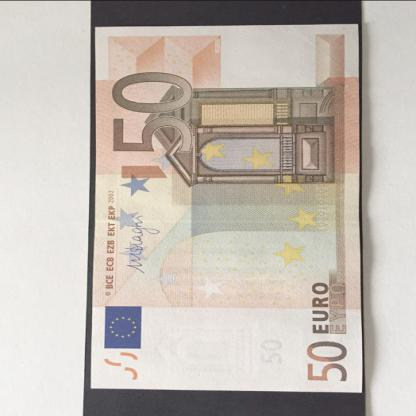euro_banknote: (45, 72, 413, 343)
